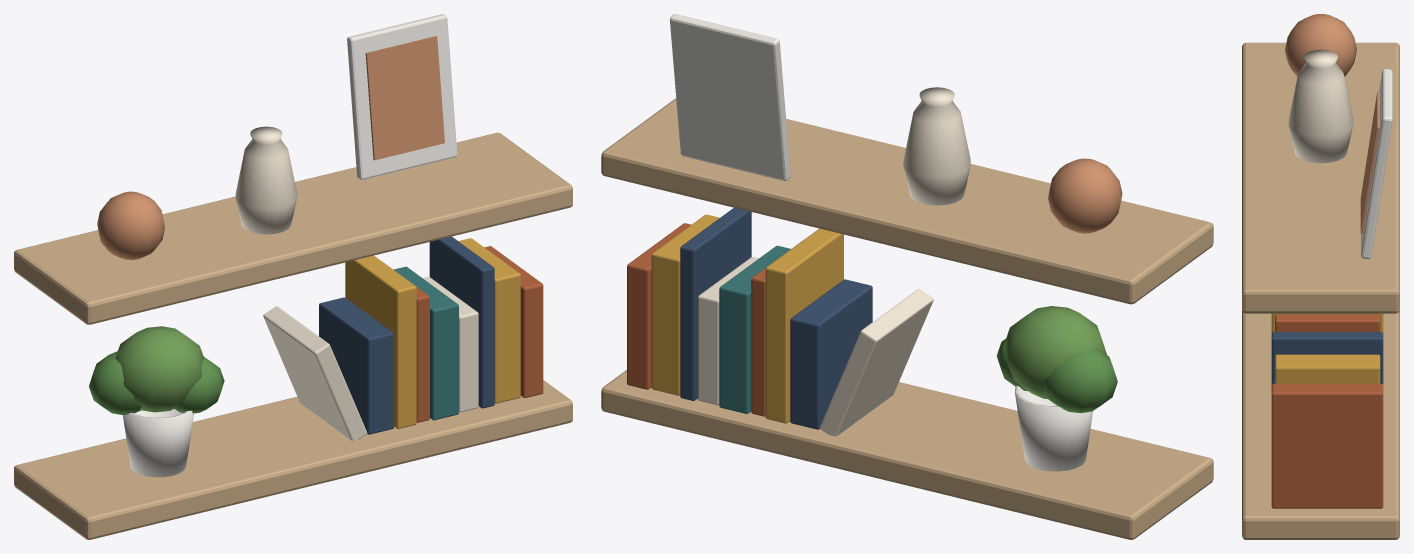
Rendered from wallShelf.glb.
3 views of the same model, side by side, from view 1: azimuth 30°, elevation 25°; view 2: azimuth 150°, elevation 25°; view 3: azimuth 270°, elevation 25° (orthographic). The views are drawn at different scales.
Visible parts, largest first — view 1: wallShelf; view 2: wallShelf; view 3: wallShelf.
Boxes of the visible parts, x1=… form: wallShelf: x1=14, y1=14, x2=572, y2=539; wallShelf: x1=601, y1=14, x2=1213, y2=539; wallShelf: x1=1242, y1=14, x2=1399, y2=539.
Bounding box in the file's own units: 0.9 × 0.6594 × 0.24.
